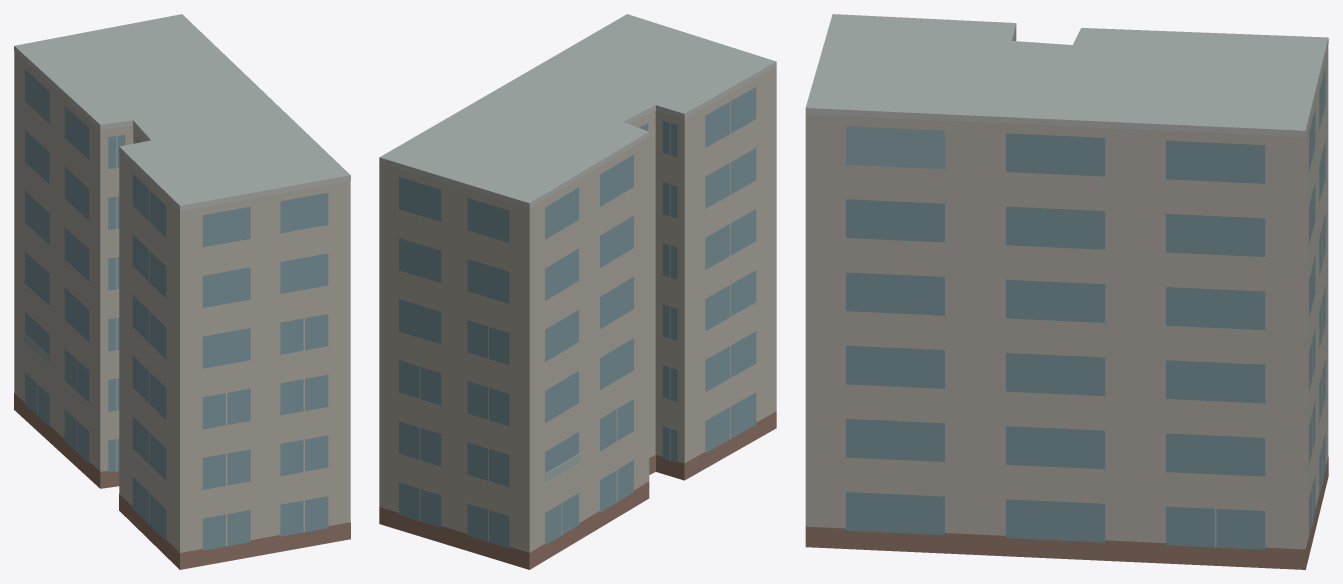
Rendered from survey-upis-32567180.glb.
The picture shows the model from 3 angles, left to right: view 1: azimuth 30°, elevation 25°; view 2: azimuth 150°, elevation 25°; view 3: azimuth 270°, elevation 25°; orthographic projection. The views are drawn at different scales.
Visible parts, largest first — view 1: survey-upis-32567180.tmp; view 2: survey-upis-32567180.tmp; view 3: survey-upis-32567180.tmp.
Boxes of the visible parts, x1,y1,x2,y2 form: survey-upis-32567180.tmp: (14, 14, 350, 569); survey-upis-32567180.tmp: (379, 14, 776, 569); survey-upis-32567180.tmp: (805, 14, 1328, 569).
Bounding box in the file's own units: 9.65 × 16.9 × 18.25.
